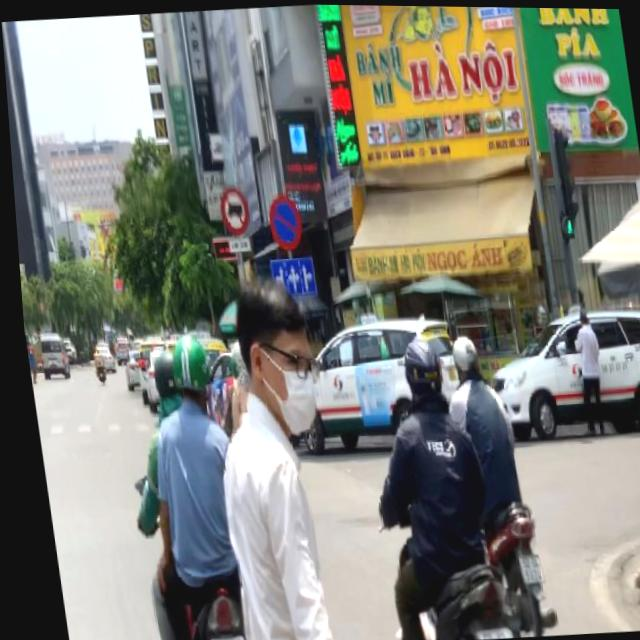Cam do xe: (262, 193, 301, 251)
Cam xe tai: (214, 184, 248, 236)
